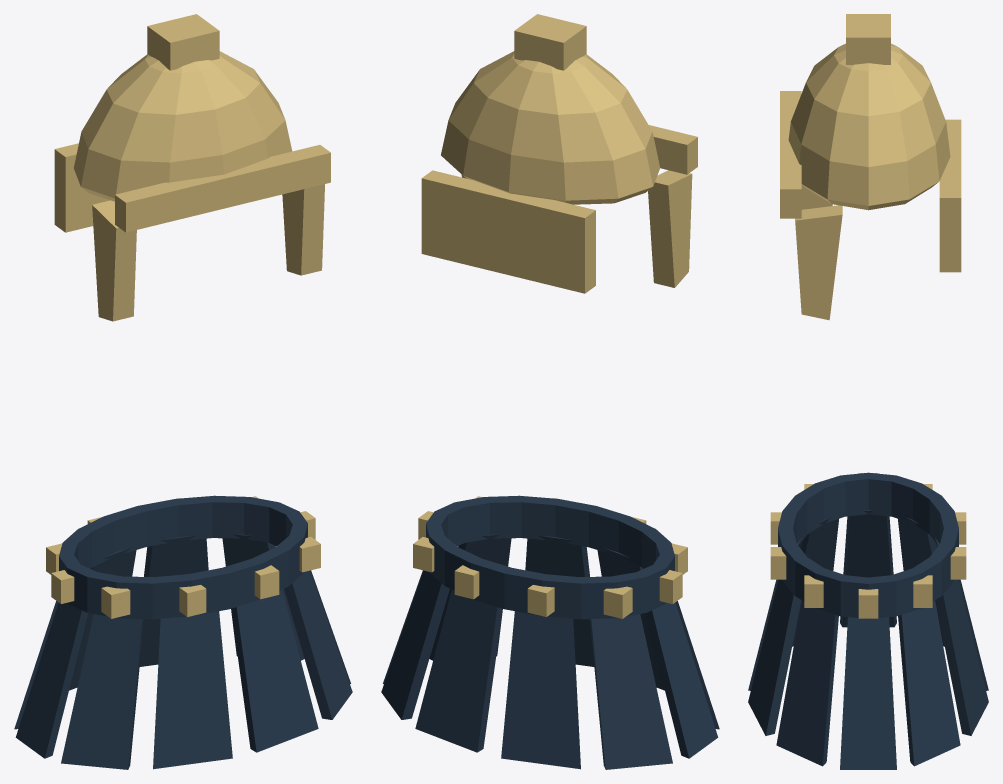
File: roman-armor-v2.glb
The picture shows the model from 3 angles, left to right: view 1: azimuth 30°, elevation 25°; view 2: azimuth 150°, elevation 25°; view 3: azimuth 270°, elevation 25°; orthographic projection.
Visible parts, largest first — view 1: Helmet_Galea.001, Skirt_Ten_Separated_Lames.001, Waist_Belt.001; view 2: Helmet_Galea.001, Skirt_Ten_Separated_Lames.001, Waist_Belt.001; view 3: Skirt_Ten_Separated_Lames.001, Helmet_Galea.001, Waist_Belt.001.
Boxes of the visible parts, left/top/right/bottom form: Helmet_Galea.001: left=46, top=14, right=330, bottom=618; Skirt_Ten_Separated_Lames.001: left=14, top=534, right=352, bottom=769; Waist_Belt.001: left=59, top=495, right=307, bottom=619; Helmet_Galea.001: left=413, top=14, right=697, bottom=618; Skirt_Ten_Separated_Lames.001: left=381, top=534, right=719, bottom=769; Waist_Belt.001: left=426, top=495, right=674, bottom=619; Skirt_Ten_Separated_Lames.001: left=748, top=510, right=988, bottom=769; Helmet_Galea.001: left=770, top=14, right=966, bottom=618; Waist_Belt.001: left=778, top=472, right=958, bottom=618.
Bounding box in the file's own units: 0.1613 × 0.343 × 0.1117.
